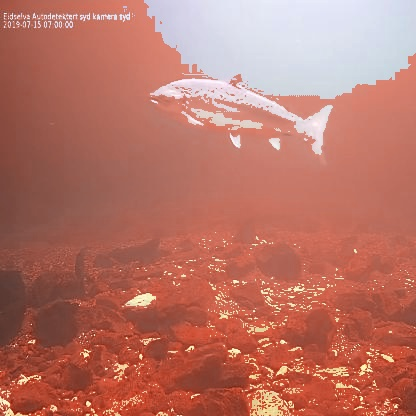salmon: (146, 71, 334, 170)
